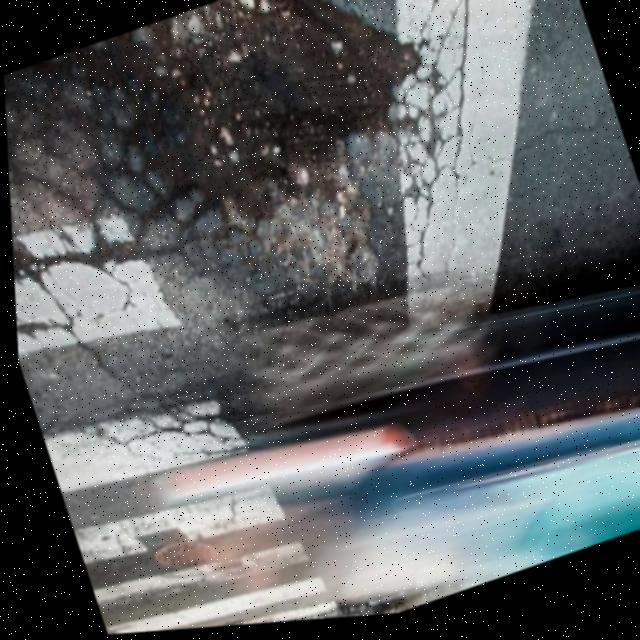Pothole: (0, 0, 521, 402)
